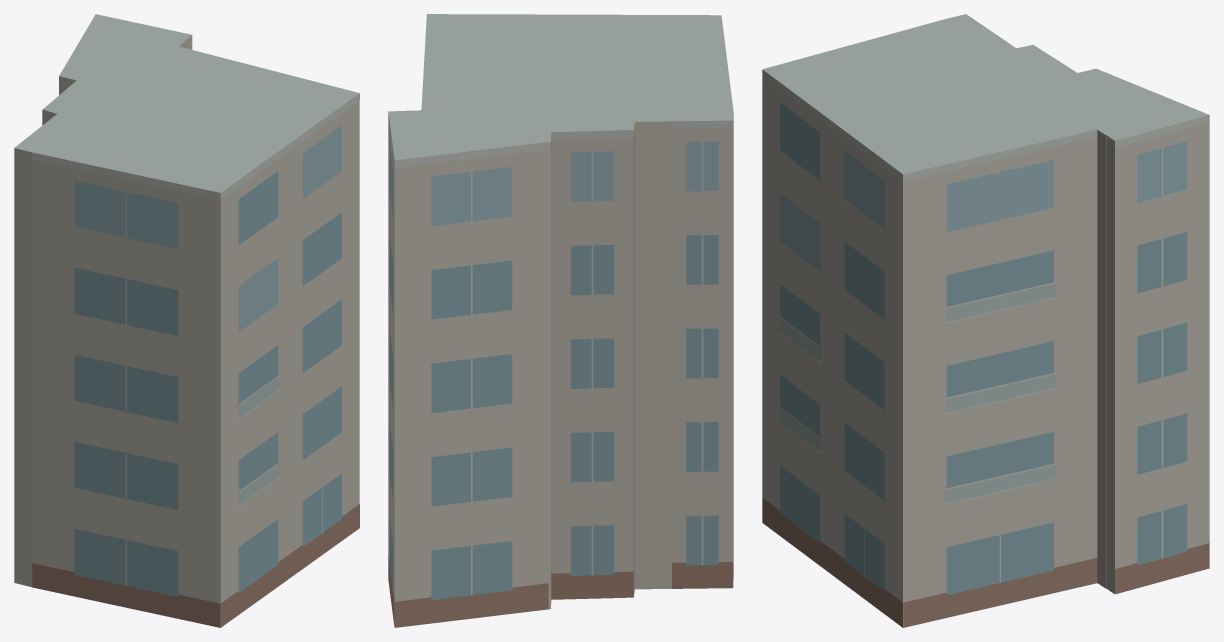
File: survey-upis-33001562.glb
3 views of the same model, side by side, from view 1: azimuth 30°, elevation 25°; view 2: azimuth 150°, elevation 25°; view 3: azimuth 270°, elevation 25° (orthographic). The views are drawn at different scales.
Visible parts, largest first — view 1: survey-upis-33001562.tmp; view 2: survey-upis-33001562.tmp; view 3: survey-upis-33001562.tmp.
Boxes of the visible parts, x1,y1,x2,y2 form: survey-upis-33001562.tmp: [14, 14, 359, 627]; survey-upis-33001562.tmp: [388, 14, 733, 627]; survey-upis-33001562.tmp: [762, 14, 1209, 627].
Size of the model in its own units: 11.22 by 14.78 by 13.22.
